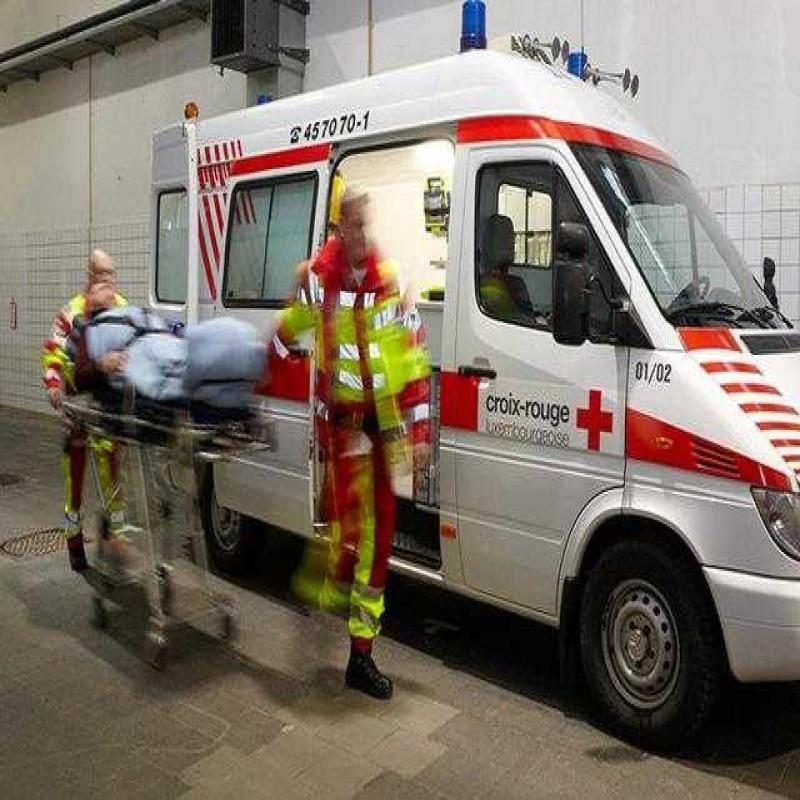AmbulanceSiren: (448, 0, 498, 61)
